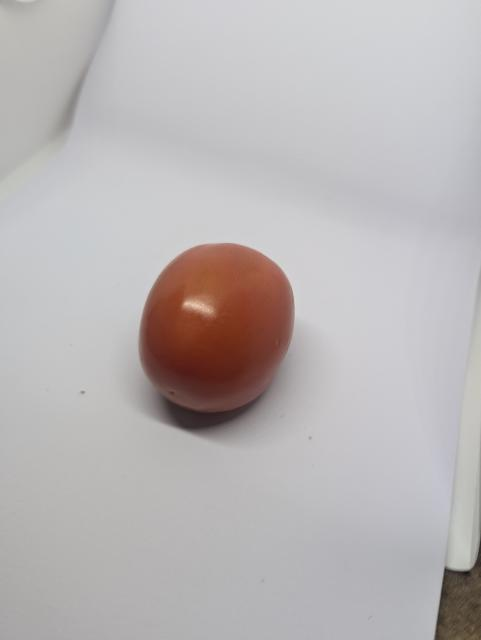red: (104, 221, 327, 428)
